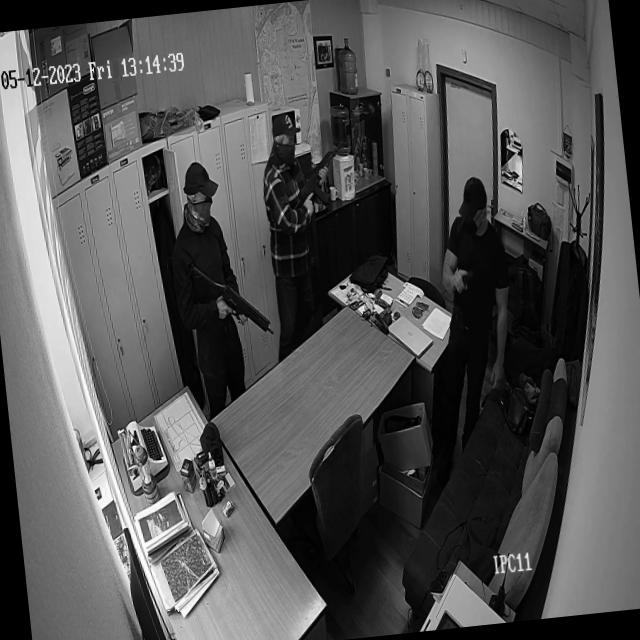gun: (188, 249, 276, 348), (292, 137, 350, 206), (456, 259, 474, 290)
person with a gun: (430, 173, 520, 444), (163, 158, 249, 400), (258, 112, 325, 330)
